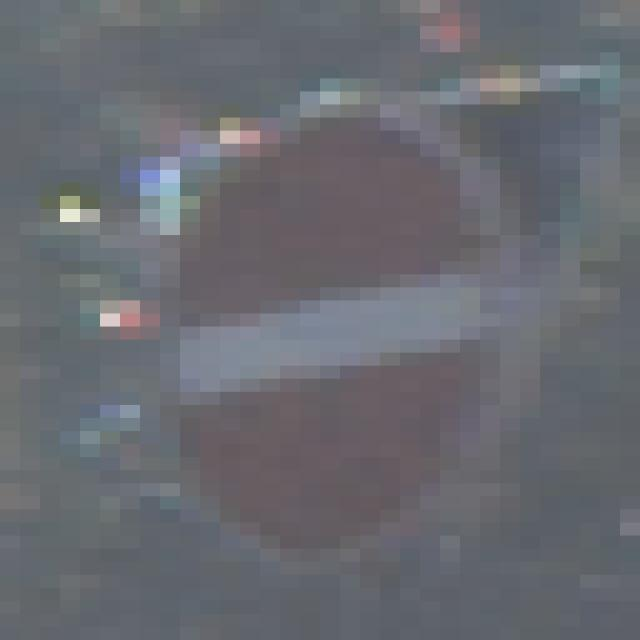No Entry: (121, 79, 541, 576)
